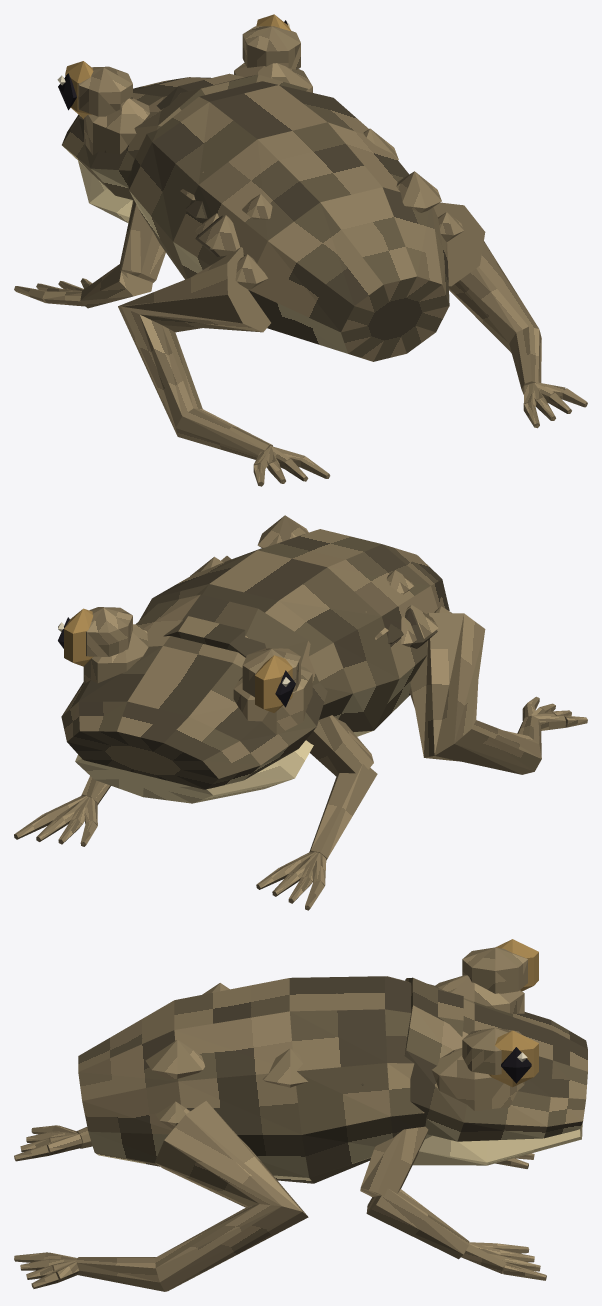
The model's file is mon_fowler_toad.glb.
3 renders of one model, top to bottom at view 1: azimuth 30°, elevation 25°; view 2: azimuth 150°, elevation 25°; view 3: azimuth 270°, elevation 25°, orthographic.
Visible parts, largest first — view 1: closed_body; view 2: closed_body; view 3: closed_body.
Boxes of the visible parts, <box> form: closed_body: <box>14,14,587,486</box>; closed_body: <box>14,515,587,910</box>; closed_body: <box>14,939,587,1291</box>.
Size of the model in its own units: 0.1479 by 0.0893 by 0.2048.
1 material, 1 textured.
